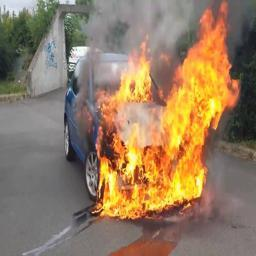fire: (92, 0, 241, 219)
